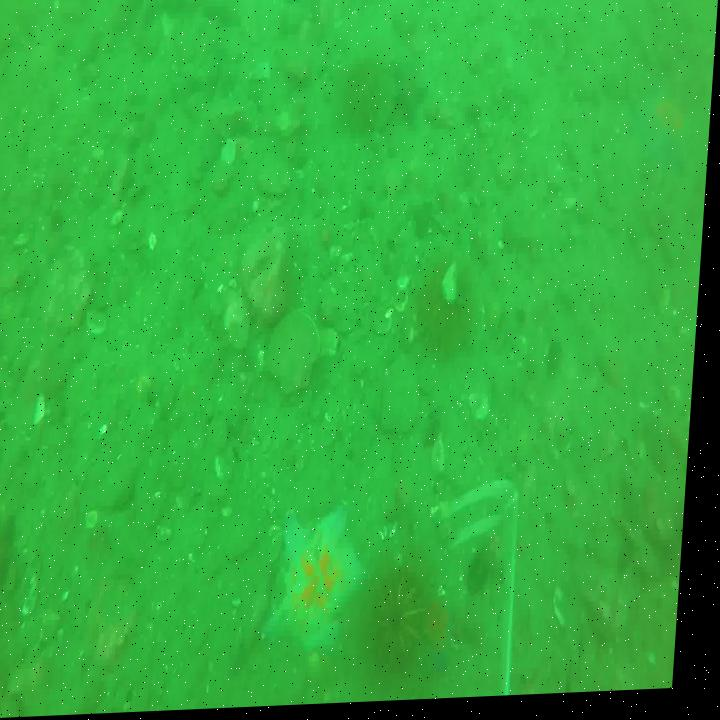echinus: (375, 561, 441, 679), (426, 272, 488, 368), (337, 51, 397, 143)
scallop: (269, 314, 328, 398), (380, 292, 411, 337), (225, 297, 255, 336), (437, 443, 461, 480), (88, 309, 113, 342)
starfish: (273, 514, 380, 664), (0, 501, 30, 596)
